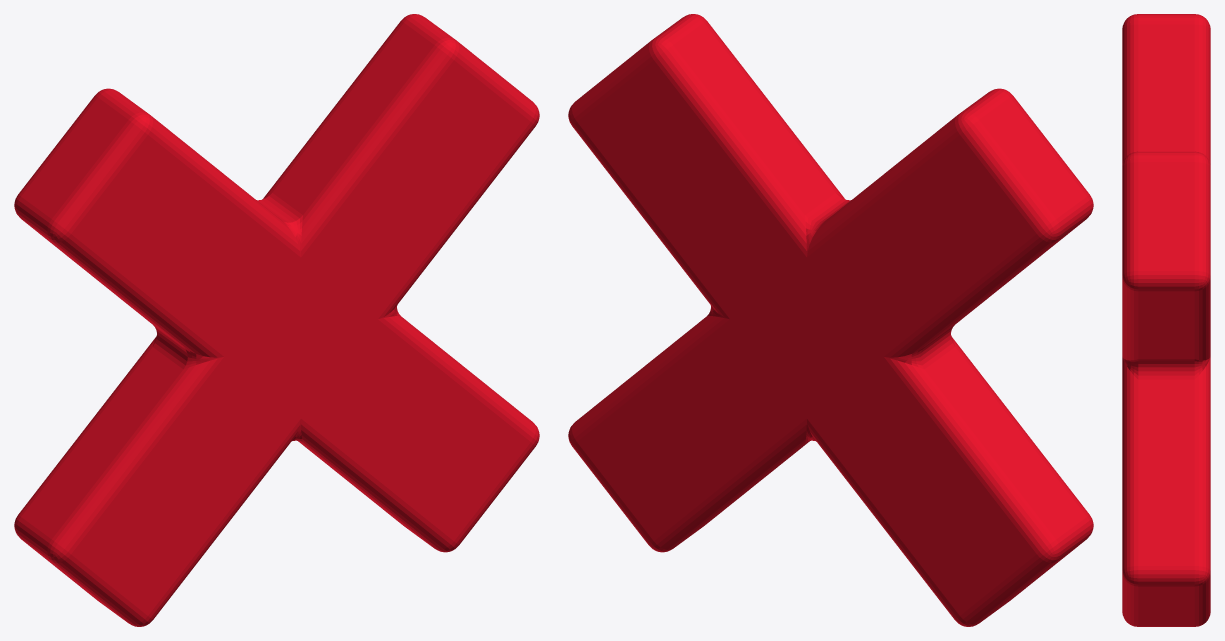
The model's file is delete.gltf.
The picture shows the model from 3 angles, left to right: view 1: azimuth 30°, elevation 25°; view 2: azimuth 150°, elevation 25°; view 3: azimuth 270°, elevation 25°; orthographic projection. The views are drawn at different scales.
Parts seen in each view (by area): view 1: Plane.001; view 2: Plane.001; view 3: Plane.001.
Part boxes in pixels (box(x1,y1,x2,y2)): Plane.001: box(14, 14, 539, 626); Plane.001: box(568, 14, 1093, 626); Plane.001: box(1122, 14, 1210, 626).
Bounding box in the file's own units: 1.95 × 1.95 × 0.3317.
